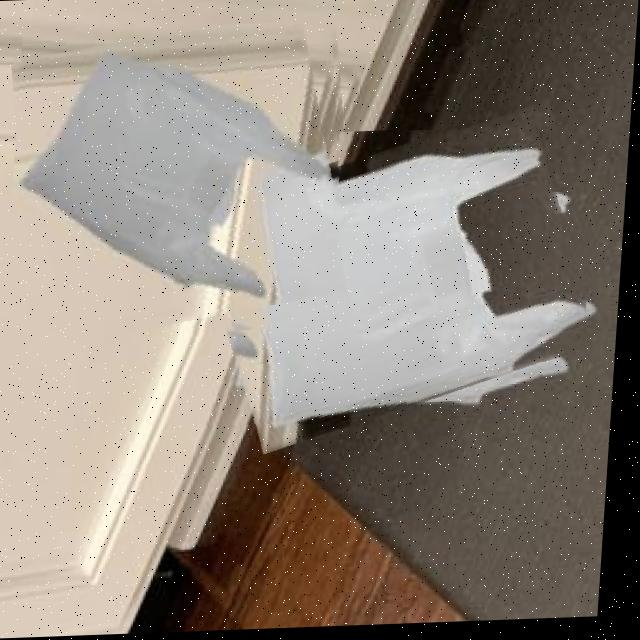plasticcover: (211, 125, 609, 435), (7, 21, 366, 342)
